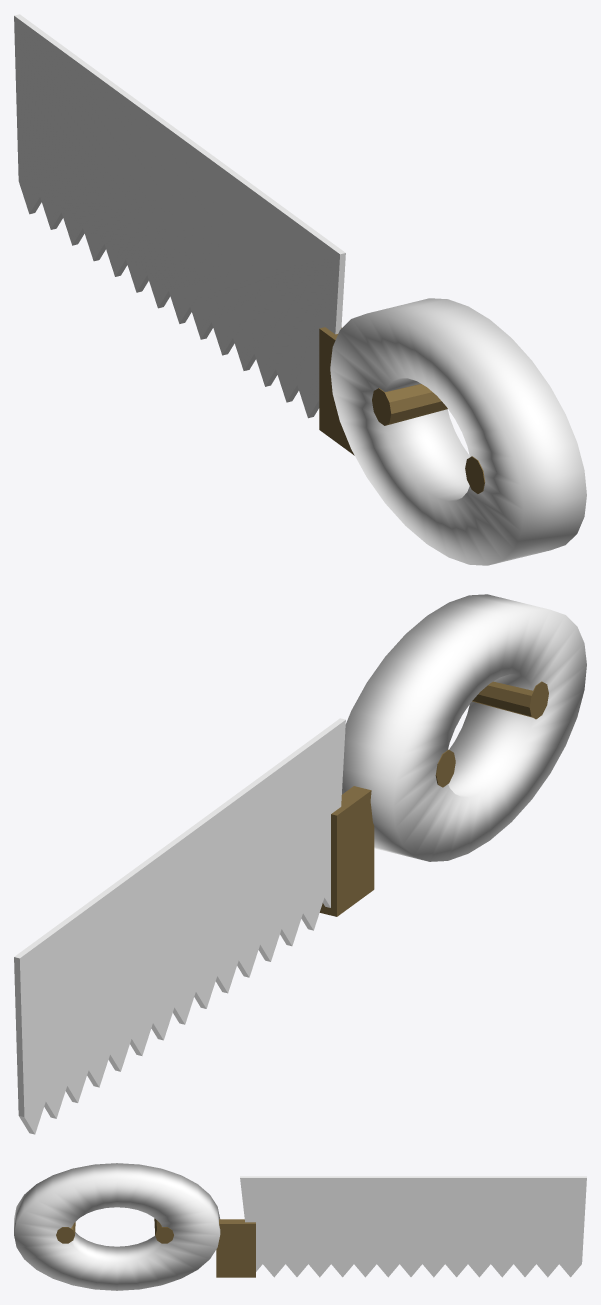
Rendered from item_saw.glb.
The picture shows the model from 3 angles, top to bottom: view 1: azimuth 30°, elevation 25°; view 2: azimuth 150°, elevation 25°; view 3: azimuth 270°, elevation 25°; orthographic projection. The views are drawn at different scales.
Visible parts, largest first — view 1: SawBlade, WoodHandle, Rivet1, BrassBrace; view 2: SawBlade, WoodHandle, BrassBrace, Rivet0; view 3: SawBlade, WoodHandle, BrassBrace, Rivet1, Rivet0.
Boxes of the visible parts, bbox=[...] form: SawBlade: bbox=[14, 14, 345, 418]; WoodHandle: bbox=[330, 298, 586, 565]; Rivet1: bbox=[372, 384, 447, 425]; BrassBrace: bbox=[319, 327, 354, 455]; SawBlade: bbox=[14, 718, 345, 1134]; WoodHandle: bbox=[342, 594, 586, 861]; BrassBrace: bbox=[319, 786, 374, 916]; Rivet0: bbox=[472, 681, 548, 719]; SawBlade: bbox=[240, 1176, 586, 1277]; WoodHandle: bbox=[14, 1163, 220, 1290]; BrassBrace: bbox=[216, 1219, 255, 1277]; Rivet1: bbox=[154, 1218, 173, 1243]; Rivet0: bbox=[56, 1222, 75, 1243].
Bounding box in the file's own units: 0.02 × 0.062 × 0.289.
